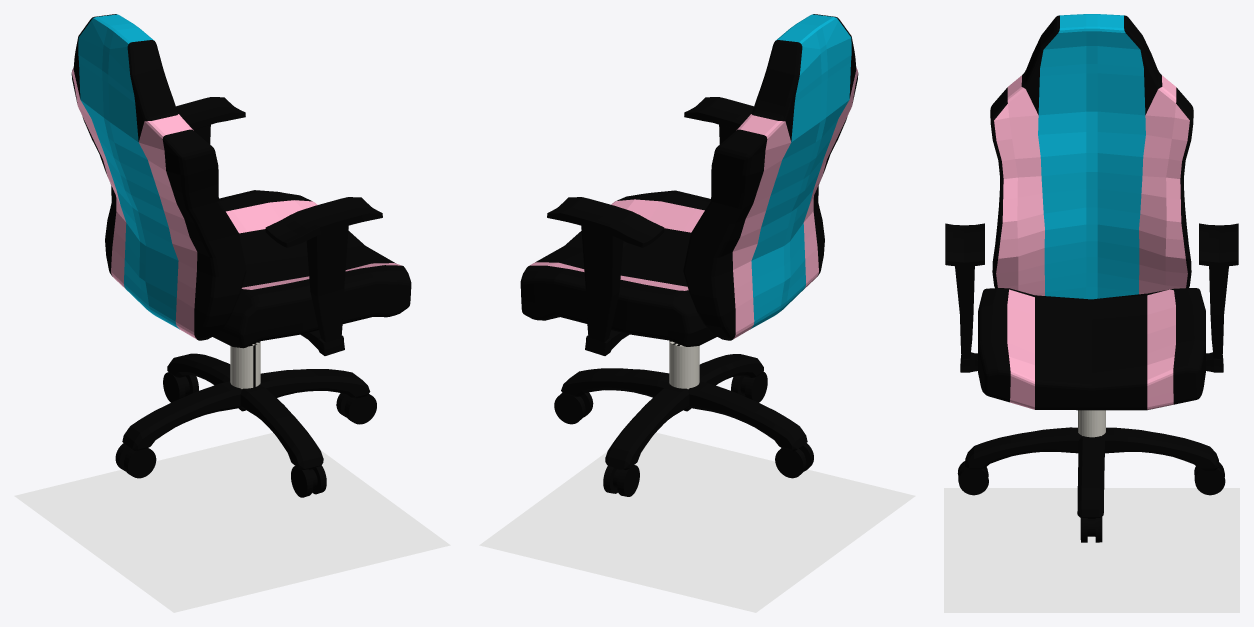
The picture shows the model from 3 angles, left to right: view 1: azimuth 30°, elevation 25°; view 2: azimuth 150°, elevation 25°; view 3: azimuth 270°, elevation 25°; orthographic projection. The views are drawn at different scales.
Visible parts, largest first — view 1: ruedas_4, Plane_3; view 2: ruedas_4, Plane_3; view 3: ruedas_4, Plane_3.
Part boxes in pixels (box(x1,y1,x2,y2)): ruedas_4: box(71, 14, 411, 497); Plane_3: box(14, 433, 450, 612); ruedas_4: box(520, 14, 858, 496); Plane_3: box(479, 432, 915, 612); ruedas_4: box(945, 14, 1238, 542); Plane_3: box(944, 488, 1239, 612).
Size of the model in its own units: 2 by 3.6 by 2.
2 materials, 1 textured.
